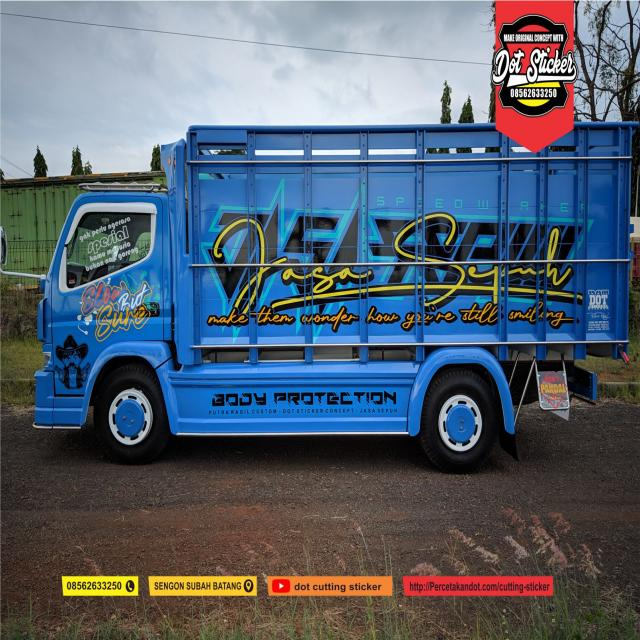truck: (33, 125, 630, 459)
